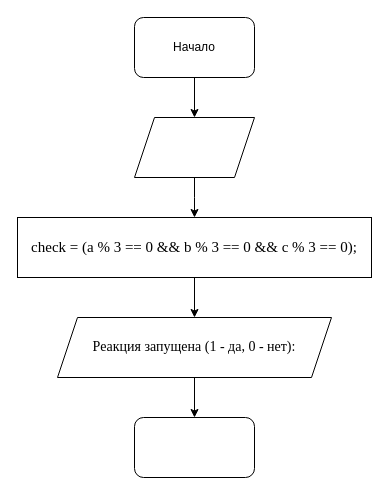
The diagram is 389 pixels wide and 495 high, and some of its shapes have lost their labels. The centre of each missing label's shape, as x and y in pixels:
"a,b,c" belongs at point (194, 147).
"Конец" belongs at point (194, 447).
